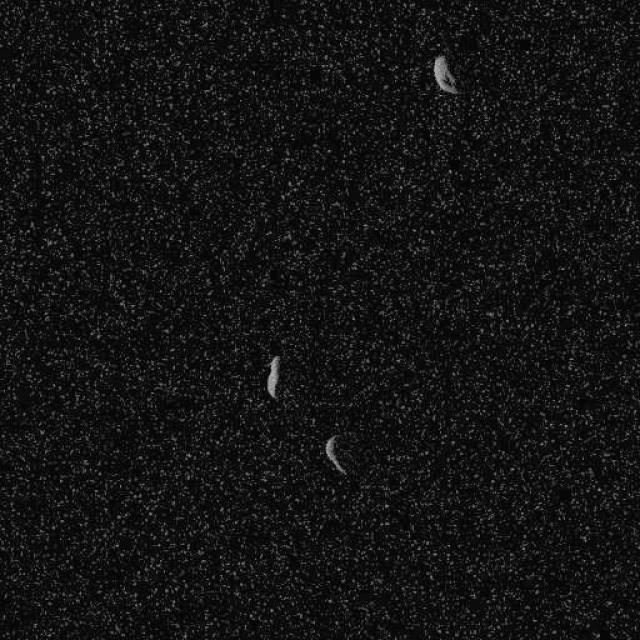D2: (431, 54, 460, 94), (322, 434, 347, 476), (265, 354, 280, 398)
